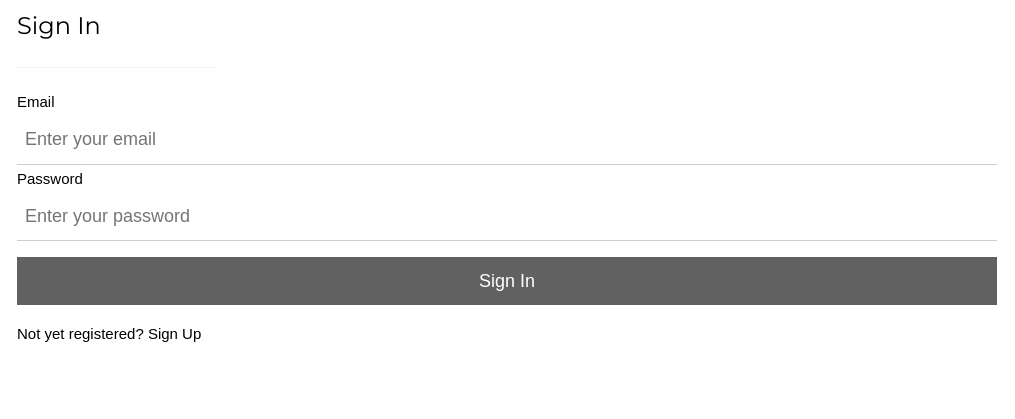
Signin › should show required error when fields are empty
The image size is (1015, 419).
Click the button "Sign In" at (507, 281), box [17,257,997,305]
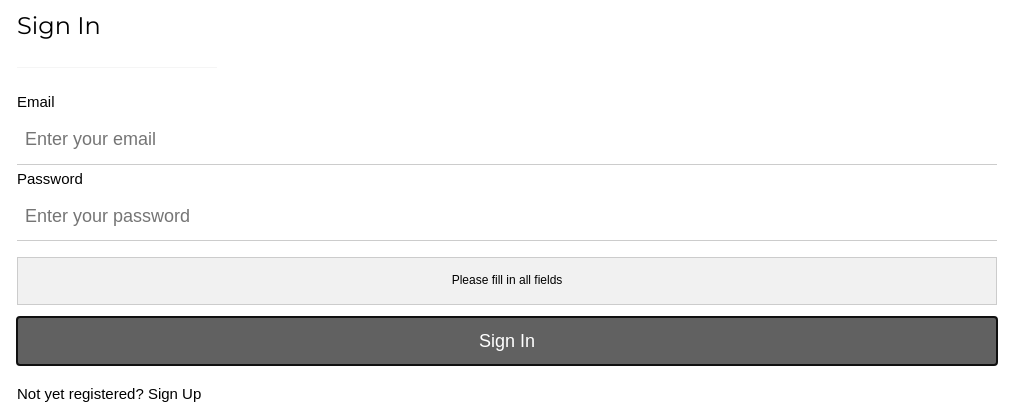
Now the message reads "Please fill in all fields", box [452,273,562,287]
